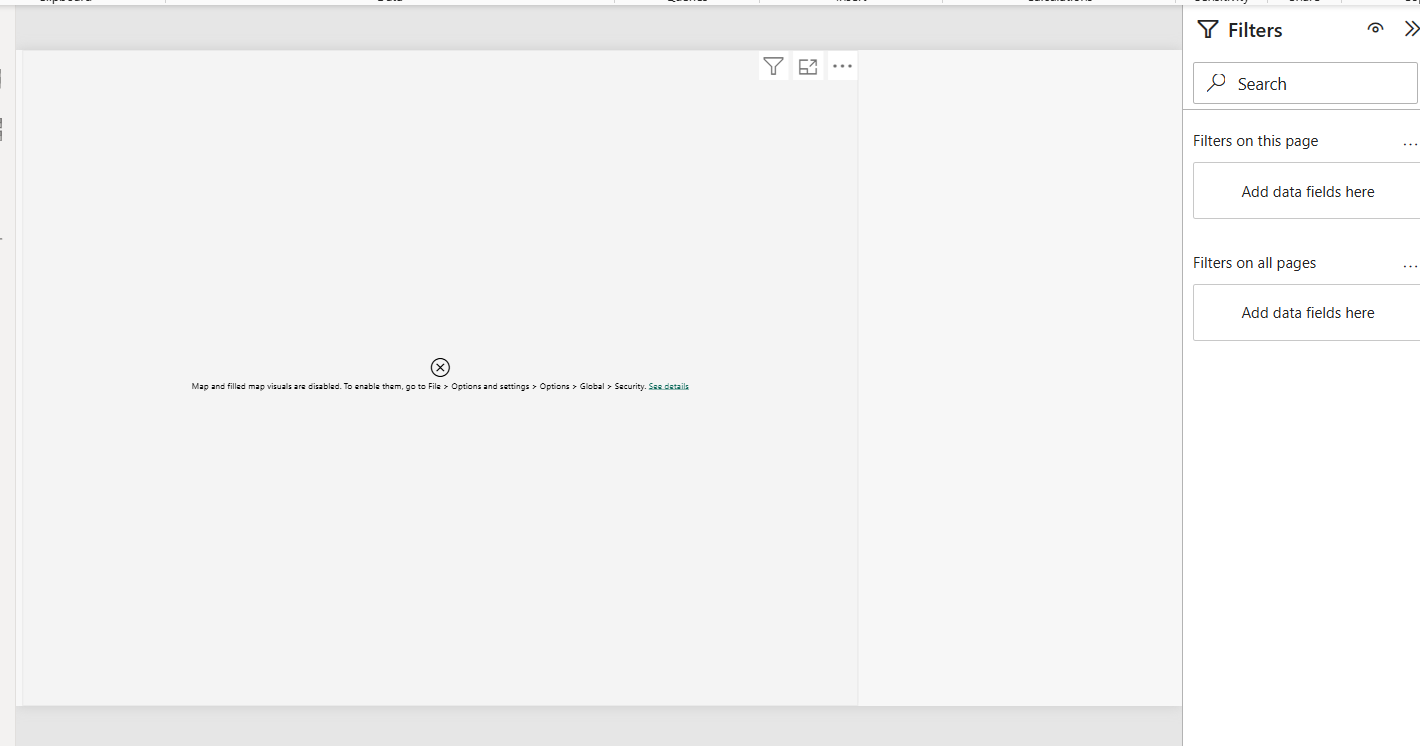

Layout of this report page (visuals, bound fields, positions):
{"tool":"powerbi","page":{"name":"Geographic Sales By City","canvas":[1920,1080],"ordinal":5},"visuals":[{"type":"map","fields":{"Category":["List of Orders.City"],"Size":["Order Details.Total Sales"]},"box":[10.3,0,1377,1080.6],"z":0}]}

Visuals, with their boxes on the page's 1920x1080 design canvas (x1, y1, x2, y2). These are canvas units, not pixel positions in the 1420x746 screenshot, which may show the page scaled, cropped or inside an application window:
map - List of Orders.City x Order Details.Total Sales: {"x1": 10, "y1": 0, "x2": 1387, "y2": 1081}
